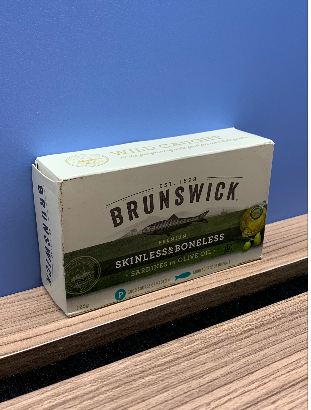Sardines_100-199g: (62, 159, 254, 266)
